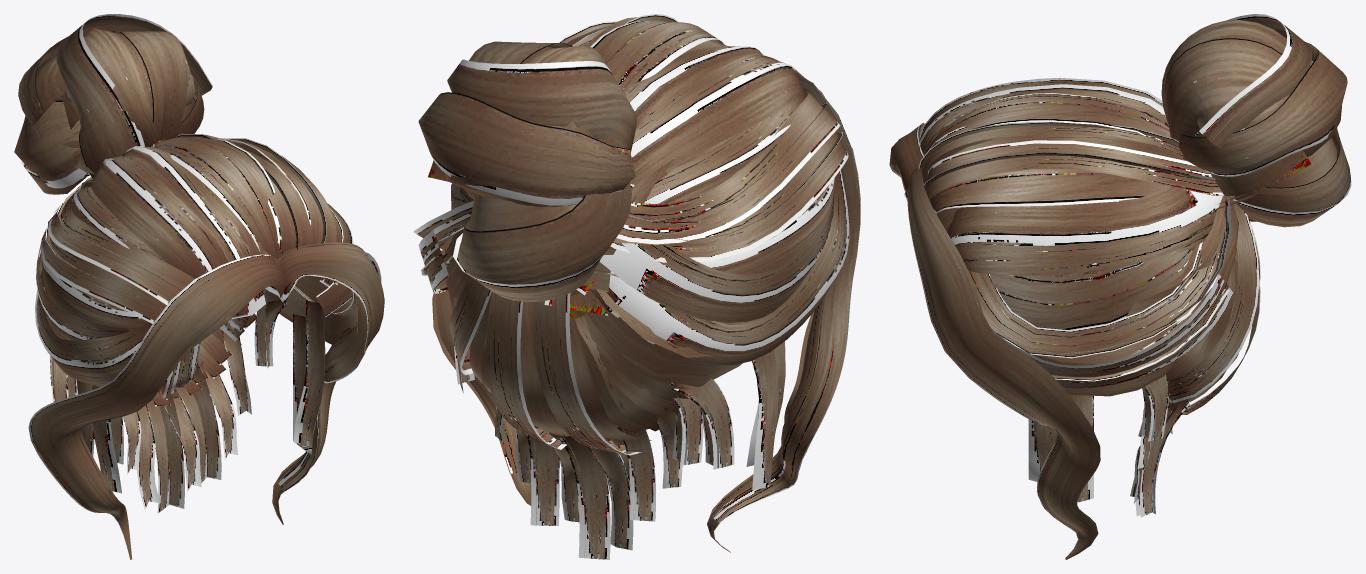
Rendered from Hair_Blender 2.FBX.
3 views of the same model, side by side, from view 1: azimuth 30°, elevation 25°; view 2: azimuth 150°, elevation 25°; view 3: azimuth 270°, elevation 25° (orthographic). The views are drawn at different scales.
Parts seen in each view (by area): view 1: Object015, Cut001; view 2: Object015, Cut001; view 3: Object015, Cut001.
Boxes of the visible parts, x1,y1,x2,y2 form: Object015: (14, 14, 381, 513); Cut001: (28, 34, 384, 559); Object015: (413, 14, 849, 559); Cut001: (428, 39, 860, 552); Object015: (918, 14, 1351, 517); Cut001: (889, 60, 1341, 559).
Size of the model in its own units: 29.31 by 39.84 by 34.04.
